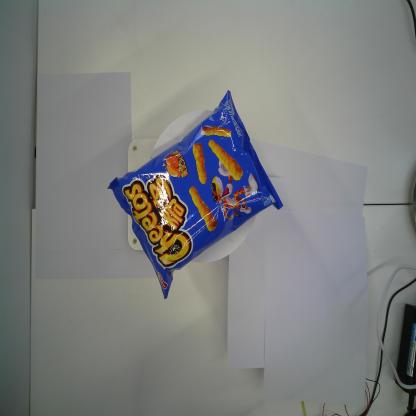Puffed Food: (107, 88, 284, 299)
